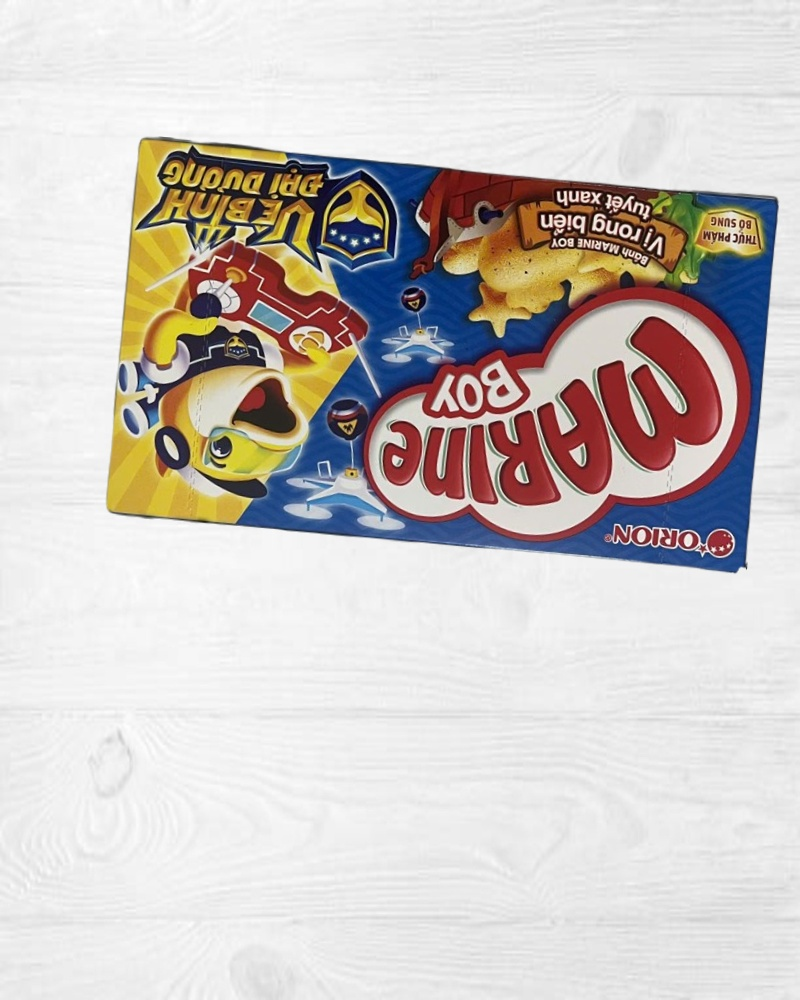Marine: (104, 137, 780, 574)
